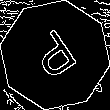P_SE: (25, 23, 85, 87)
